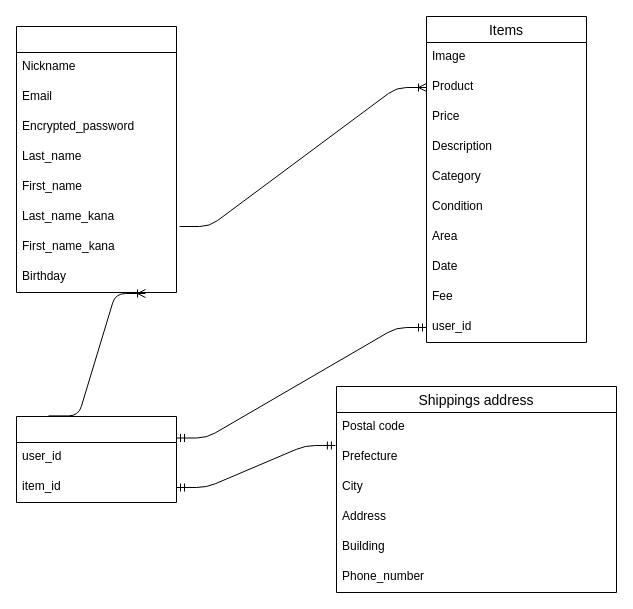
Image size: 633x609. Some labels were removed from this diagram. The box of each missing label's shape, as (x1, y1, x2, y2) in pixels:
Purchases: (16, 416, 176, 502)
Users: (16, 26, 176, 292)
